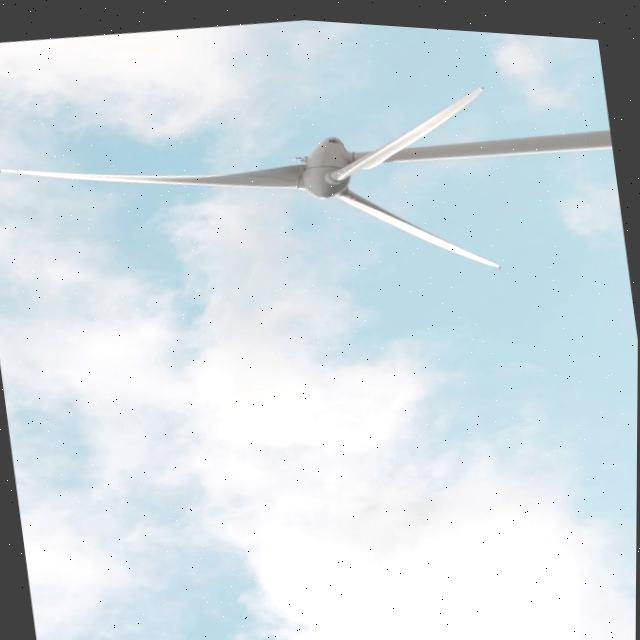solid-blade: (332, 79, 483, 175), (339, 185, 500, 260), (1, 159, 305, 184)
